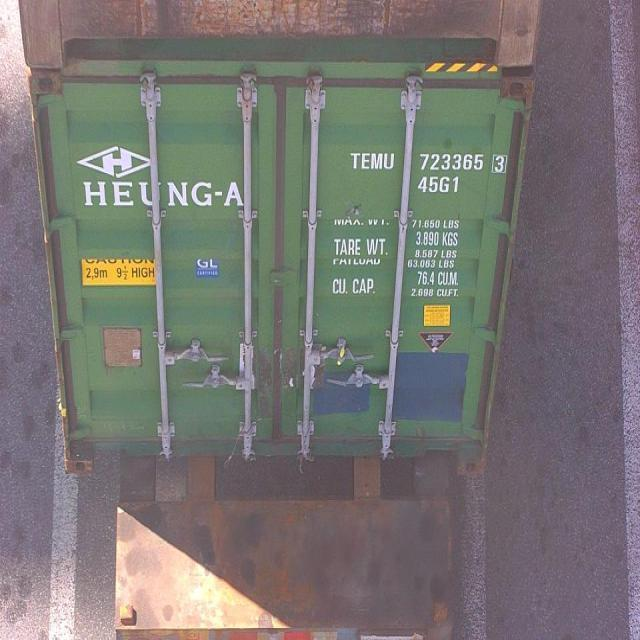ISO: (419, 174, 462, 194)
container_number: (356, 151, 504, 174)
